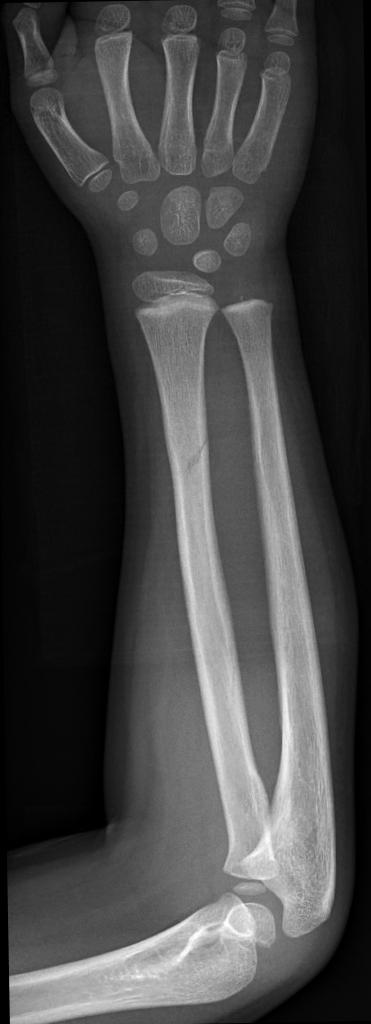line: (182, 439, 206, 473)
